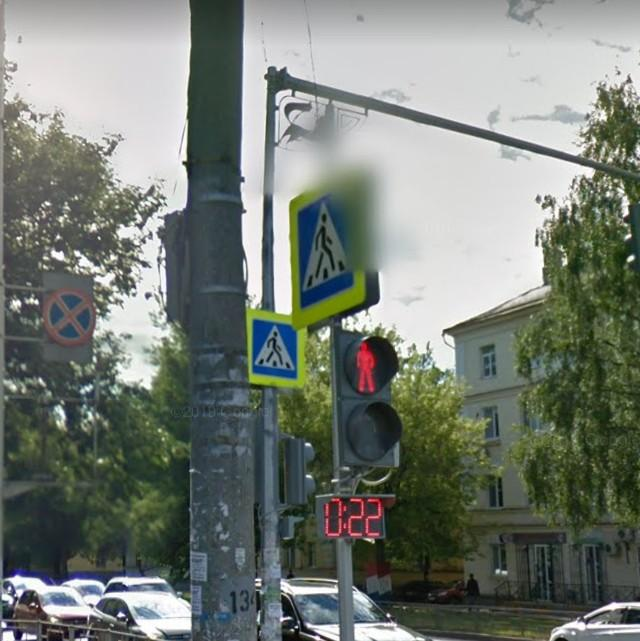No Parking: (42, 285, 102, 351)
